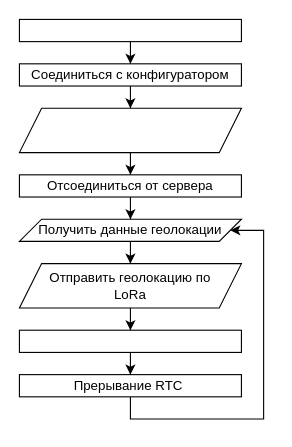
Image size: 292x447. Some labels were removed from this diagram. The shapes that lost their labels are listed below. From the top down, each one's box as (x1, y1, x2, y2) in pixels, then its label:
(18, 18, 241, 42): Включение питания
(18, 107, 241, 153): Получить: ID, интервал передачи
(18, 329, 241, 352): Переход в режим Stop 2
